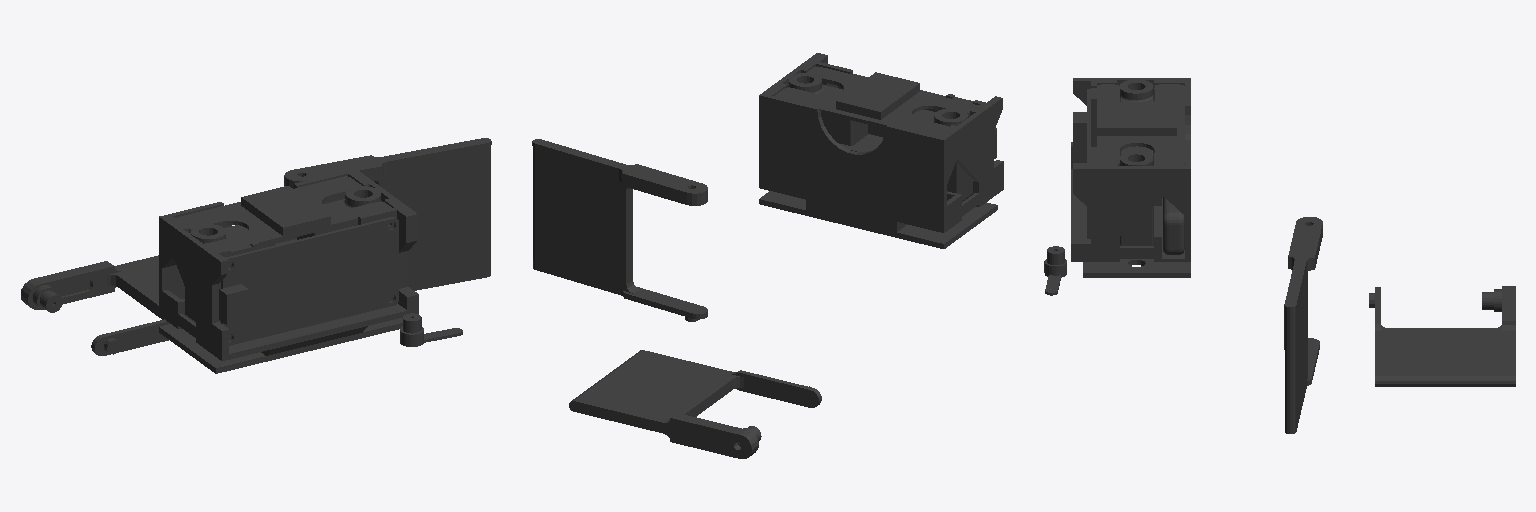
robot.urdf — simulation_urdf:
<?xml version="1.0" encoding="utf-8"?>
<!-- This URDF was automatically created by SolidWorks to URDF Exporter! Originally created by [author] ([email redacted]) 
     Commit Version: 1.5.1-0-g916b5db  Build Version: 1.5.7152.31018
     For more information, please see http://wiki.ros.org/sw_urdf_exporter -->
<robot
  name="simulation_urdf">
  <link
    name="base_link">
    <inertial>
      <origin
        xyz="0.027 0.0159265264136033 -0.0121054745241551"
        rpy="0 0 0" />
      <mass
        value="0.0461924870615736" />
      <inertia
        ixx="6.70628445308697E-06"
        ixy="1.26245184529807E-21"
        ixz="-7.7949350325389E-22"
        iyy="1.42241178598109E-05"
        iyz="-7.10017186254831E-08"
        izz="1.40770919658079E-05" />
    </inertial>
    <visual>
      <origin
        xyz="0 0 0"
        rpy="0 0 0" />
      <geometry>
        <mesh
          filename="package://simulation_urdf/meshes/base_link.STL" />
      </geometry>
      <material
        name="">
        <color
          rgba="0.298039215686275 0.298039215686275 0.298039215686275 1" />
      </material>
    </visual>
    <collision>
      <origin
        xyz="0 0 0"
        rpy="0 0 0" />
      <geometry>
        <mesh
          filename="package://simulation_urdf/meshes/base_link.STL" />
      </geometry>
    </collision>
  </link>
  <link
    name="right_arm">
    <inertial>
      <origin
        xyz="-0.0324088671779775 0.0187915778765065 6.93889390390723E-18"
        rpy="0 0 0" />
      <mass
        value="0.00328492067362327" />
      <inertia
        ixx="3.71433880005911E-07"
        ixy="6.21965185477677E-09"
        ixz="-5.44300541042791E-22"
        iyy="3.82355127750986E-07"
        iyz="-2.39946519733661E-22"
        izz="7.48915568874076E-07" />
    </inertial>
    <visual>
      <origin
        xyz="0 0 0"
        rpy="0 0 0" />
      <geometry>
        <mesh
          filename="package://simulation_urdf/meshes/right_arm.STL" />
      </geometry>
      <material
        name="">
        <color
          rgba="0.298039215686275 0.298039215686275 0.298039215686275 1" />
      </material>
    </visual>
    <collision>
      <origin
        xyz="0 0 0"
        rpy="0 0 0" />
      <geometry>
        <mesh
          filename="package://simulation_urdf/meshes/right_arm.STL" />
      </geometry>
    </collision>
  </link>
  <joint
    name="right_joint"
    type="continuous">
    <origin
      xyz="0.0058 0.0135 0"
      rpy="1.5708 0 0" />
    <parent
      link="base_link" />
    <child
      link="right_arm" />
    <axis
      xyz="0 1 0" />
    <limit
      lower="-3.15"
      upper="3.15"
      effort="0.04"
      velocity="6.28" />
  </joint>
  <link
    name="left_arm">
    <inertial>
      <origin
        xyz="-0.0324088671779775 0.0187915778765065 6.93889390390723E-18"
        rpy="0 0 0" />
      <mass
        value="0.00328492067362327" />
      <inertia
        ixx="3.71433880005911E-07"
        ixy="6.21965185477668E-09"
        ixz="-5.52556649185422E-22"
        iyy="3.82355127750985E-07"
        iyz="-2.93149386758955E-22"
        izz="7.48915568874075E-07" />
    </inertial>
    <visual>
      <origin
        xyz="0 0 0"
        rpy="0 0 0" />
      <geometry>
        <mesh
          filename="package://simulation_urdf/meshes/left_arm.STL" />
      </geometry>
      <material
        name="">
        <color
          rgba="0.298039215686275 0.298039215686275 0.298039215686275 1" />
      </material>
    </visual>
    <collision>
      <origin
        xyz="0 0 0"
        rpy="0 0 0" />
      <geometry>
        <mesh
          filename="package://simulation_urdf/meshes/left_arm.STL" />
      </geometry>
    </collision>
  </link>
  <joint
    name="left_joint"
    type="continuous">
    <origin
      xyz="0.0482 0.0135 0"
      rpy="1.5708 0 3.0427" />
    <parent
      link="base_link" />
    <child
      link="left_arm" />
    <axis
      xyz="0 1 0" />
    <limit
      lower="-3.15"
      upper="3.15"
      effort="0.04"
      velocity="6.28" />
  </joint>
</robot>

--- Render facts (derived) ---
The picture shows the robot from 3 angles, left to right: view 1: azimuth 30°, elevation 25°; view 2: azimuth 150°, elevation 25°; view 3: azimuth 270°, elevation 25°; orthographic projection.
Model simulation_urdf with 3 links and 2 joints (2 continuous), rooted at base_link, posed all joints at 0.
Links seen in each view (by area): view 1: base_link, left_arm, right_arm; view 2: base_link, left_arm, right_arm; view 3: base_link, right_arm, left_arm.
Boxes of the visible links, left/top/right/bottom form: base_link: left=159, top=169, right=418, bottom=373; left_arm: left=284, top=138, right=491, bottom=346; right_arm: left=21, top=255, right=169, bottom=355; base_link: left=759, top=53, right=1003, bottom=248; left_arm: left=532, top=139, right=707, bottom=321; right_arm: left=569, top=350, right=821, bottom=458; base_link: left=1071, top=78, right=1190, bottom=277; right_arm: left=1369, top=286, right=1515, bottom=386; left_arm: left=1044, top=217, right=1322, bottom=433.
Size in the robot's own frame: 0.1054 by 0.118 by 0.0606 metres.
3 mesh visuals loaded from 3 distinct referenced files (3 binary STL).